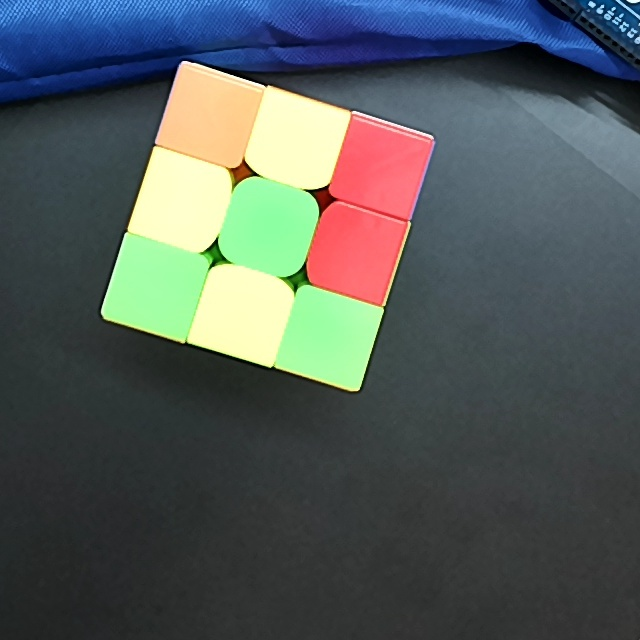tile: (235, 194, 302, 263), (121, 255, 187, 322), (323, 220, 389, 285), (295, 306, 361, 371), (349, 136, 416, 200), (208, 282, 274, 346), (263, 108, 329, 171), (177, 85, 242, 147), (151, 171, 211, 234)
